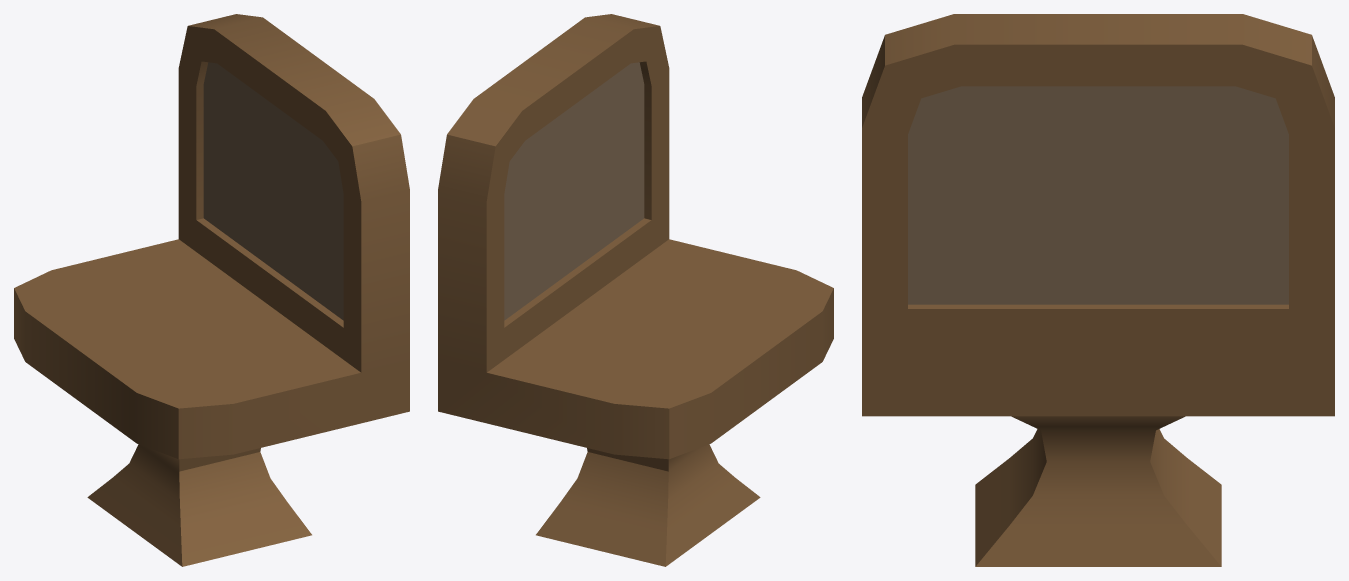
Rendered from Silla 1.fbx.
3 views of the same model, side by side, from view 1: azimuth 30°, elevation 25°; view 2: azimuth 150°, elevation 25°; view 3: azimuth 270°, elevation 25° (orthographic). The views are drawn at different scales.
Visible parts, largest first — view 1: Silla; view 2: Silla; view 3: Silla.
Part boxes in pixels (x1,y1,x2,y2): Silla: [14, 14, 409, 566]; Silla: [438, 14, 833, 566]; Silla: [862, 14, 1334, 566].
Size of the model in its own units: 61.07 by 105 by 81.19.
